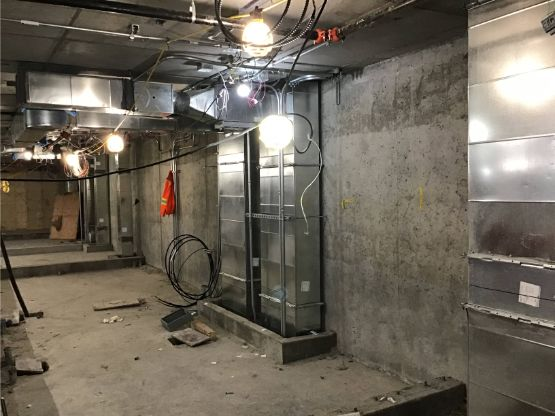Duct: (457, 1, 555, 415), (206, 76, 330, 342), (7, 62, 222, 154)
